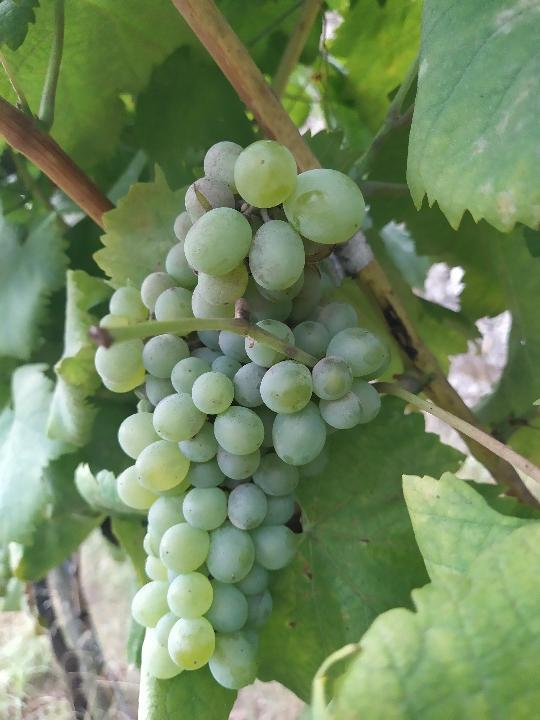grape: (91, 137, 388, 690)
